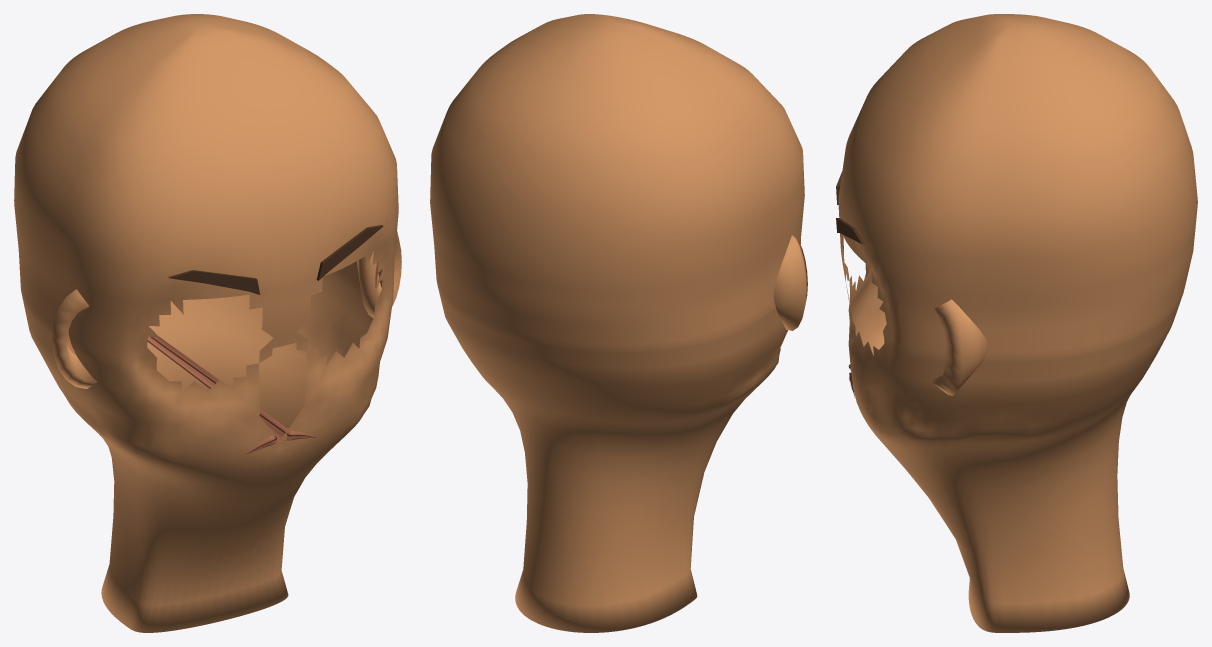
The model's file is base-feminina-03.glb.
The picture shows the model from 3 angles, left to right: view 1: azimuth 30°, elevation 25°; view 2: azimuth 150°, elevation 25°; view 3: azimuth 270°, elevation 25°; orthographic projection. The views are drawn at different scales.
Visible parts, largest first — view 1: RCL_Base_Feminina_03, RCL_Orelha_base-f-03_-1, RCL_Labios_base-f-03, RCL_Orelha_base-f-03_1, RCL_Sobrancelha_base-f-03_-1, RCL_Sobrancelha_base-f-03_1; view 2: RCL_Base_Feminina_03, RCL_Orelha_base-f-03_-1; view 3: RCL_Base_Feminina_03, RCL_Orelha_base-f-03_1.
Boxes of the visible parts, left/top/right/bottom form: RCL_Base_Feminina_03: left=14, top=14, right=398, bottom=632; RCL_Orelha_base-f-03_-1: left=52, top=289, right=97, bottom=388; RCL_Labios_base-f-03: left=147, top=336, right=315, bottom=454; RCL_Orelha_base-f-03_1: left=357, top=231, right=401, bottom=317; RCL_Sobrancelha_base-f-03_-1: left=168, top=270, right=260, bottom=294; RCL_Sobrancelha_base-f-03_1: left=316, top=225, right=383, bottom=280; RCL_Base_Feminina_03: left=430, top=14, right=804, bottom=632; RCL_Orelha_base-f-03_-1: left=773, top=235, right=807, bottom=330; RCL_Base_Feminina_03: left=838, top=14, right=1197, bottom=632; RCL_Orelha_base-f-03_1: left=930, top=299, right=988, bottom=395.
Size of the model in its own units: 0.192 by 0.305 by 0.1752.
